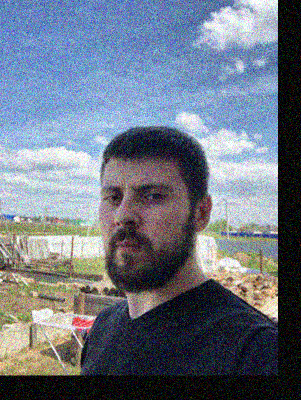without_mask: (98, 171, 186, 294)
